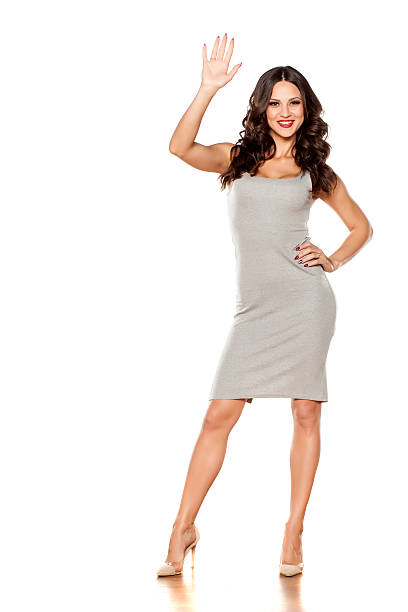open_hand: (194, 25, 249, 93)
